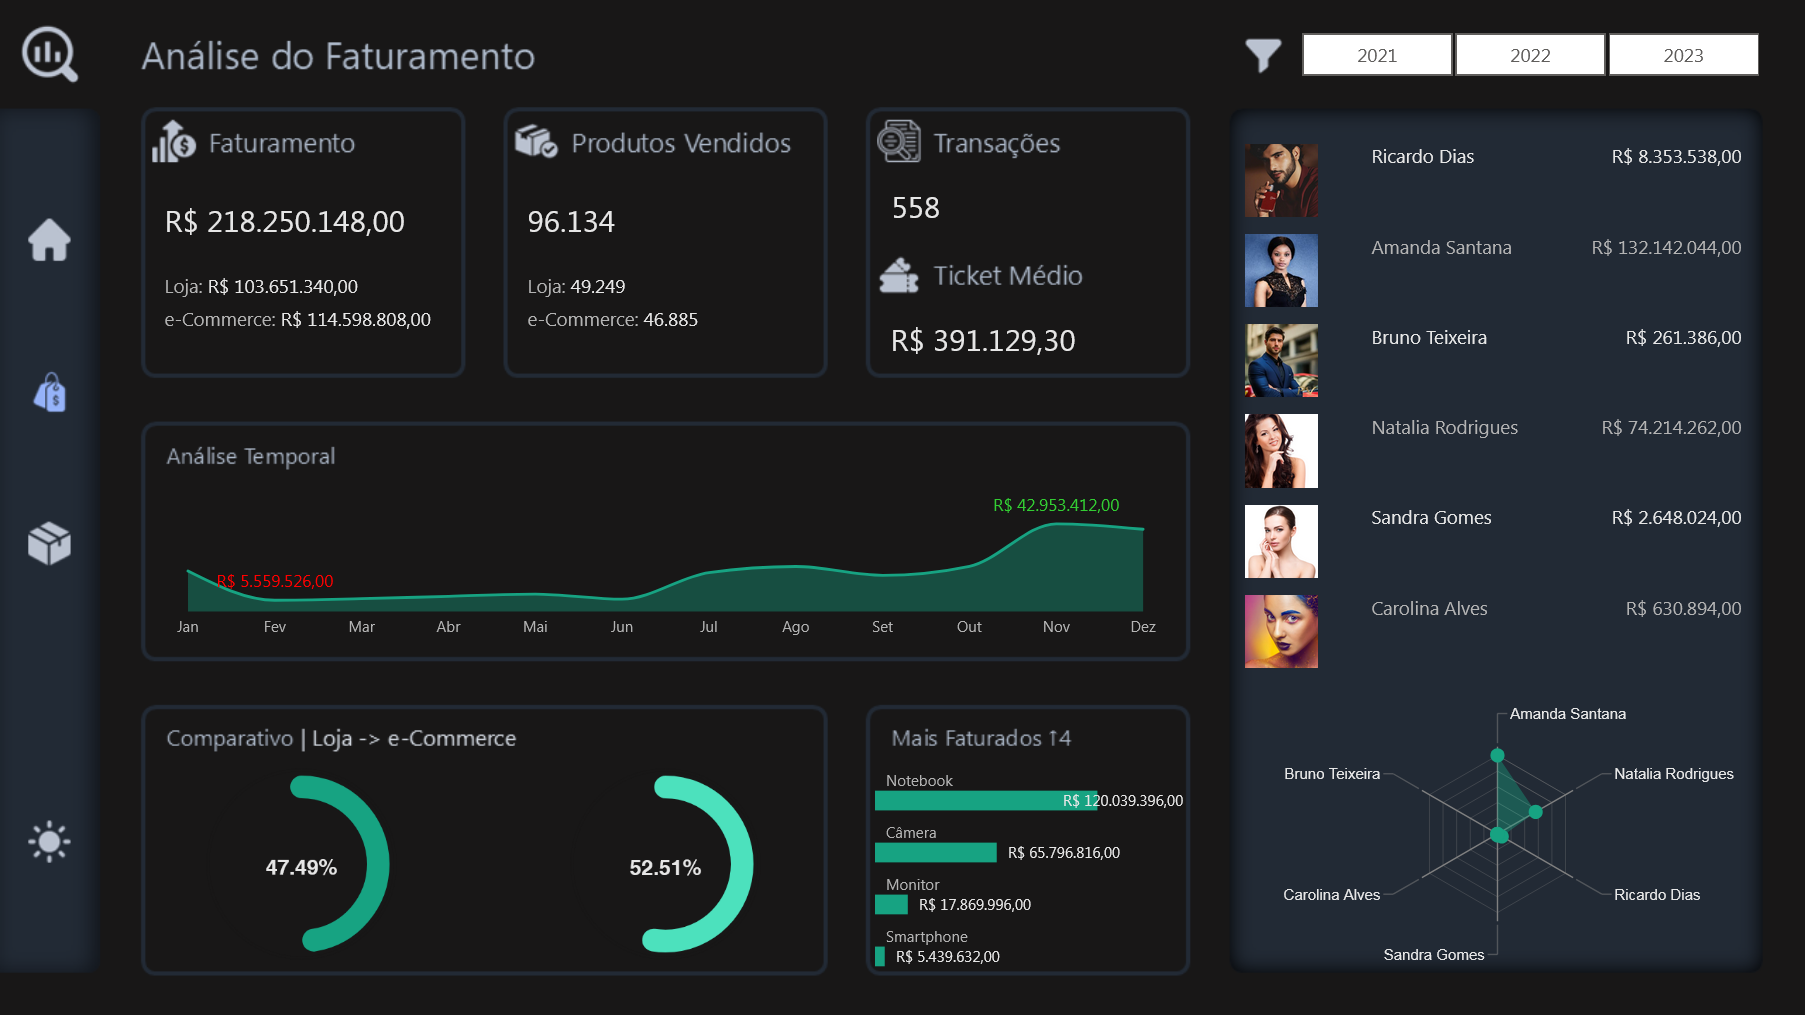

The dashboard page shown, as its layout file describes it:
{"tool":"powerbi","page":{"name":"Análise Faturamento Dark","canvas":[1280,720],"ordinal":2},"visuals":[{"type":"areaChart","fields":{"Category":["dCalendario.mes_abreviado"],"Y":["Medidas.faturamento_total"]},"box":[100.8,330,742.8,136],"z":0},{"type":"cardVisual","fields":{"Data":["Medidas.faturamento_total"]},"box":[100.6,120,228,146],"z":1000},{"type":"slicer","fields":{"Values":["dCalendario.ano"]},"box":[899,18,372,42],"z":2000},{"type":"cardVisual","fields":{"Data":["Medidas.produtos_vendidos_total"]},"box":[358.3,120,228,146],"z":3000},{"type":"cardVisual","fields":{"Data":["Medidas.transações"]},"box":[616.3,108,228,68],"z":4000},{"type":"cardVisual","fields":{"Data":["Medidas.ticket_medio"]},"box":[616,202,227.9,68.4],"z":5000},{"type":"payPalKPIDonutChart55A431AB15A540ED924ACD72ED8D259F","fields":{"myvalue":["Medidas.percentual_faturamento_loja"]},"box":[100,535.2,228,155],"z":6000},{"type":"payPalKPIDonutChart55A431AB15A540ED924ACD72ED8D259F","fields":{"myvalue":["Medidas.percentual_faturamento_ecommerce"]},"box":[358.3,535.2,227.9,155],"z":7000},{"type":"clusteredBarChart","fields":{"Category":["fVendas.nome_produto"],"Y":["Medidas.titulo_mais_faturados","Medidas.faturamento_total"]},"box":[616.5,534.9,226.7,156.1],"z":8000},{"type":"tableEx","fields":{"Values":["fVendas.link_foto_vendedor","fVendas.nome_vendedor","Medidas.faturamento_total"]},"box":[872,53.8,378,438],"z":9000},{"type":"RadarChart1446119667547","fields":{"Category":["fVendas.nome_vendedor"],"Y":["Medidas.faturamento_total"]},"box":[868,491.8,388,200],"z":10000},{"type":"actionButton","box":[15,152,40,40],"z":11000},{"type":"actionButton","box":[15,366.1,40.6,40],"z":12000},{"type":"actionButton","box":[15,576,40.6,39.7],"z":13000}]}

Visuals, with their boxes on the page's 1280x720 design canvas (x1, y1, x2, y2). These are canvas units, not pixel positions in the 1805x1015 screenshot, which may show the page scaled, cropped or inside an application window:
areaChart - dCalendario.mes_abreviado x Medidas.faturamento_total: 101,330,844,466
cardVisual - Medidas.faturamento_total: 101,120,329,266
slicer - dCalendario.ano: 899,18,1271,60
cardVisual - Medidas.produtos_vendidos_total: 358,120,586,266
cardVisual - Medidas.transações: 616,108,844,176
cardVisual - Medidas.ticket_medio: 616,202,844,270
payPalKPIDonutChart55A431AB15A540ED924ACD72ED8D259F - Medidas.percentual_faturamento_loja: 100,535,328,690
payPalKPIDonutChart55A431AB15A540ED924ACD72ED8D259F - Medidas.percentual_faturamento_ecommerce: 358,535,586,690
clusteredBarChart - fVendas.nome_produto x Medidas.titulo_mais_faturados: 616,535,843,691
tableEx - fVendas.link_foto_vendedor x fVendas.nome_vendedor: 872,54,1250,492
RadarChart1446119667547 - fVendas.nome_vendedor x Medidas.faturamento_total: 868,492,1256,692
actionButton: 15,152,55,192
actionButton: 15,366,56,406
actionButton: 15,576,56,616
